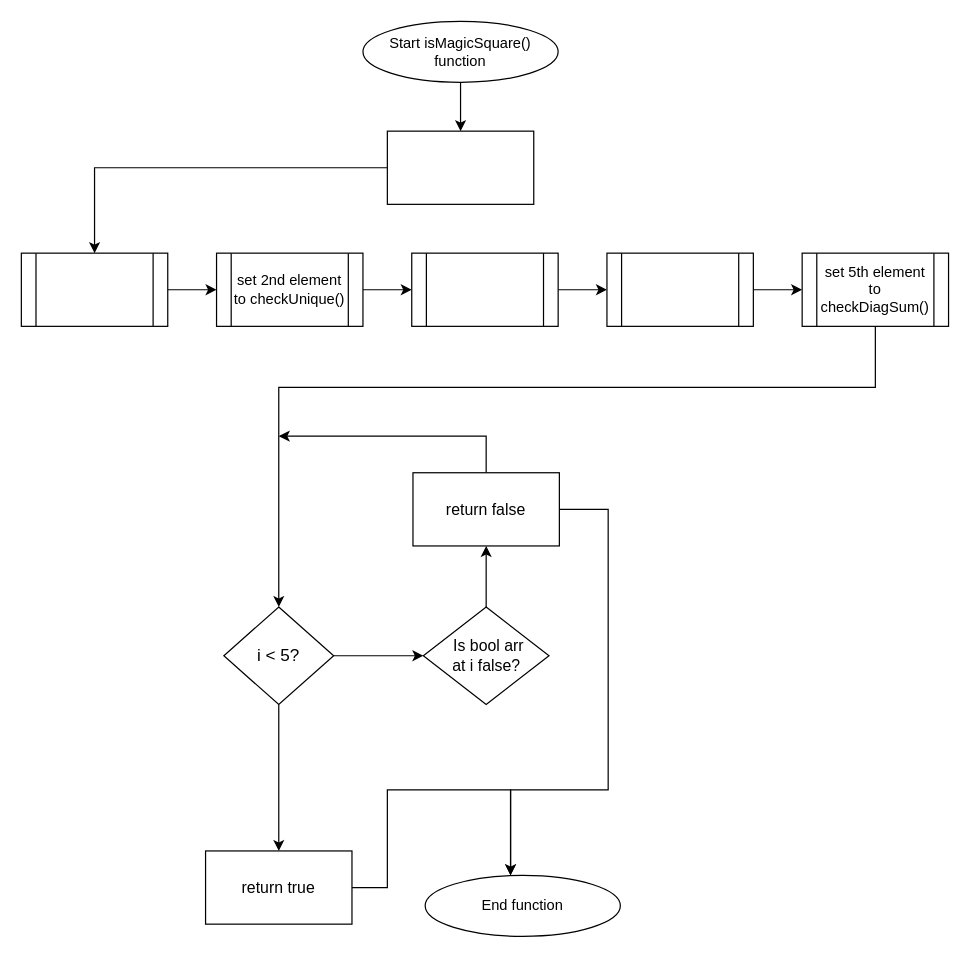
Image size: 970x958. Some labels were removed from this diagram. The centre of each missing label's shape, as x and y in pixels:
"Create bool array of size 5" belongs at pixel 460 167.
"set 1st element to checkRange()" belongs at pixel 94 289.
"set 3rd element to checkRowSum()" belongs at pixel 484 289.
"set 4th element to checkColSum()" belongs at pixel 679 289.
